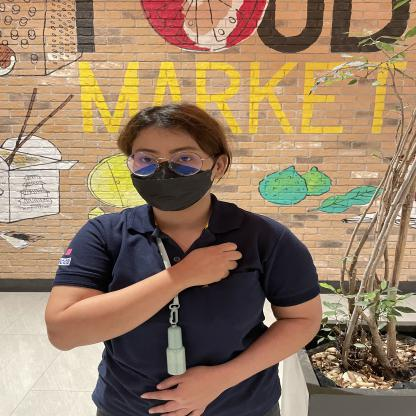Sadness: (132, 225, 292, 300)
